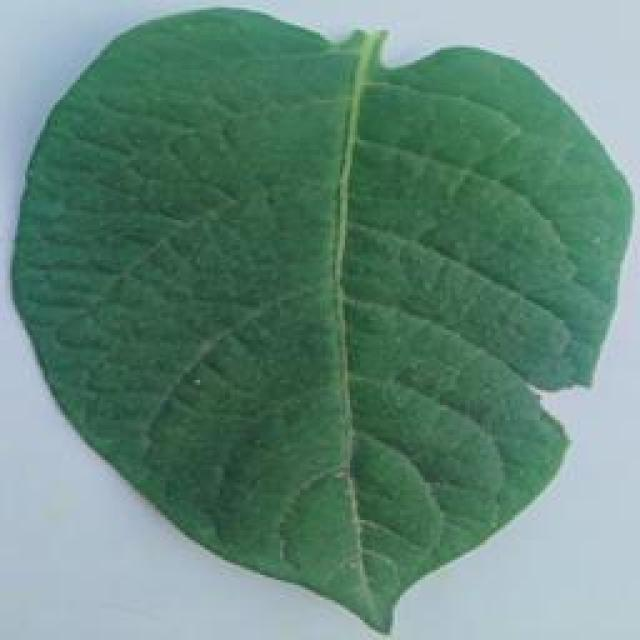Potato_Healthy: (3, 6, 633, 634)
